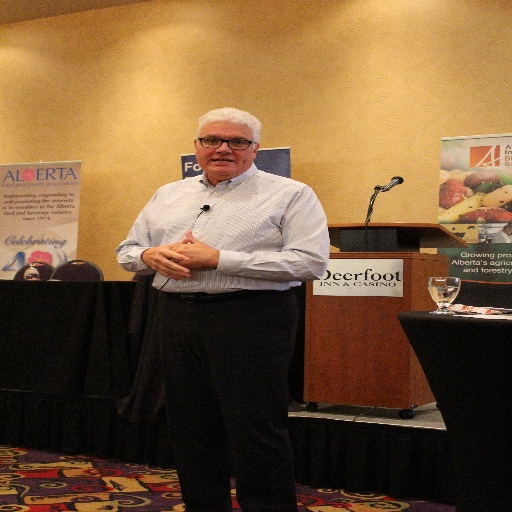hand: (143, 239, 190, 280), (167, 229, 217, 267)
